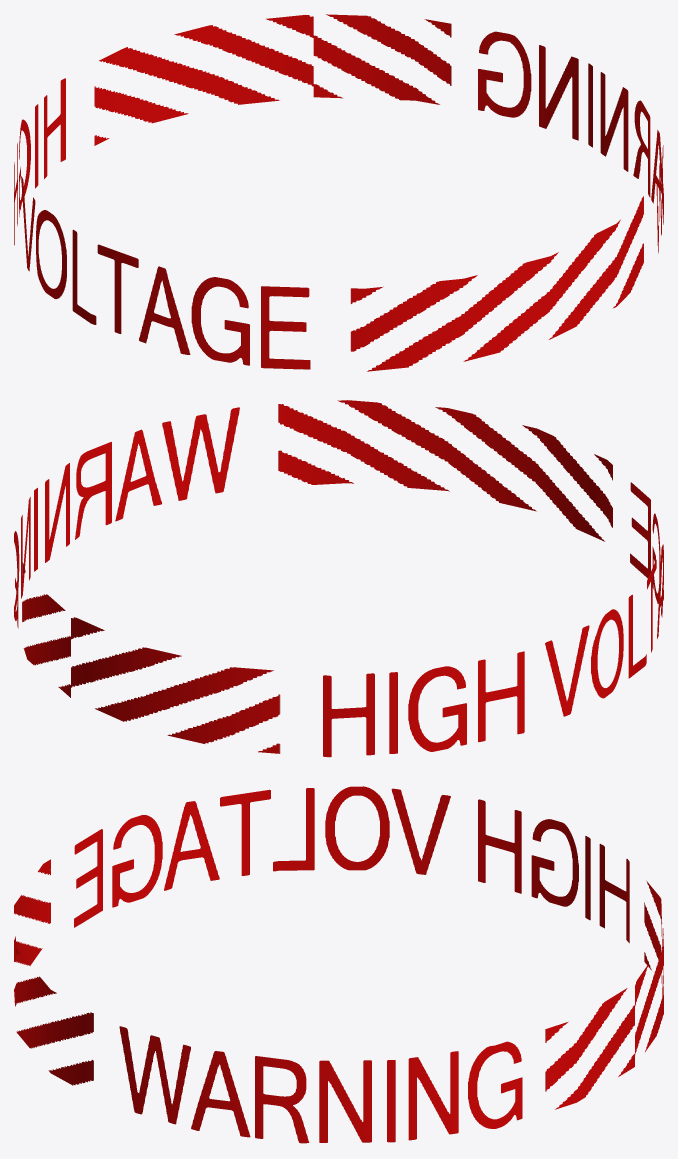
Rendered from UI_RotatingDanger.fbx.
The picture shows the model from 3 angles, top to bottom: view 1: azimuth 30°, elevation 25°; view 2: azimuth 150°, elevation 25°; view 3: azimuth 270°, elevation 25°; orthographic projection.
Visible parts, largest first — view 1: pCylinder52; view 2: pCylinder52; view 3: pCylinder52.
Part boxes in pixels (x1,y1,x2,y2): pCylinder52: (14,14,663,371); pCylinder52: (14,400,663,757); pCylinder52: (14,786,663,1143).
Size of the model in its own units: 0.4165 by 0.0592 by 0.4165.
1 material, 1 textured.
